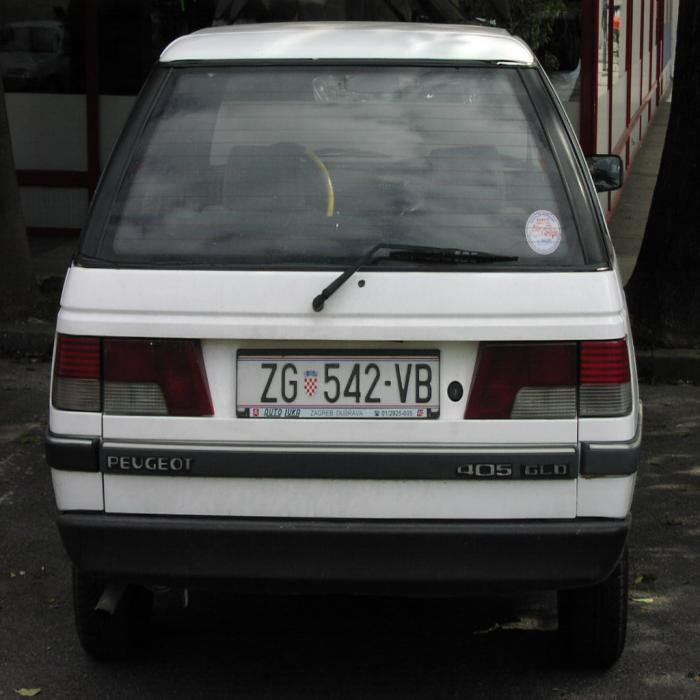number_plate: (237, 354, 437, 406)
